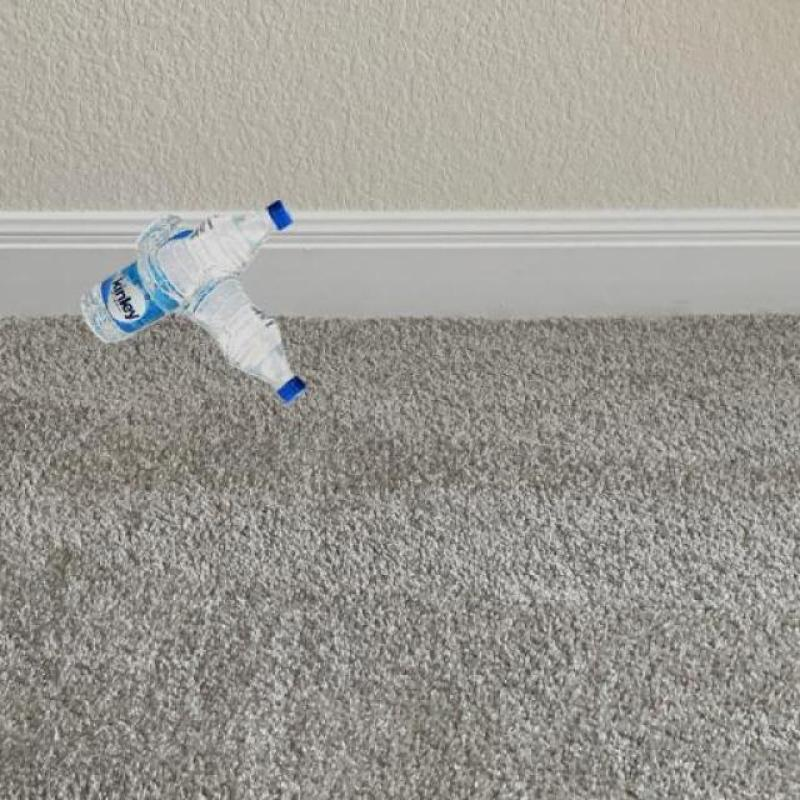botella: (81, 196, 295, 346), (136, 214, 306, 400)
